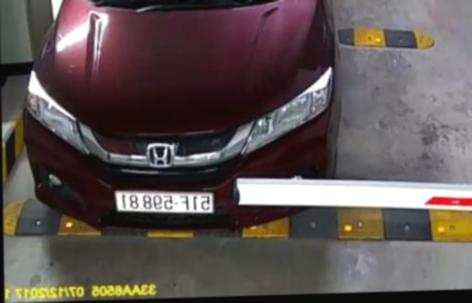License_Plate: (110, 185, 217, 225)
